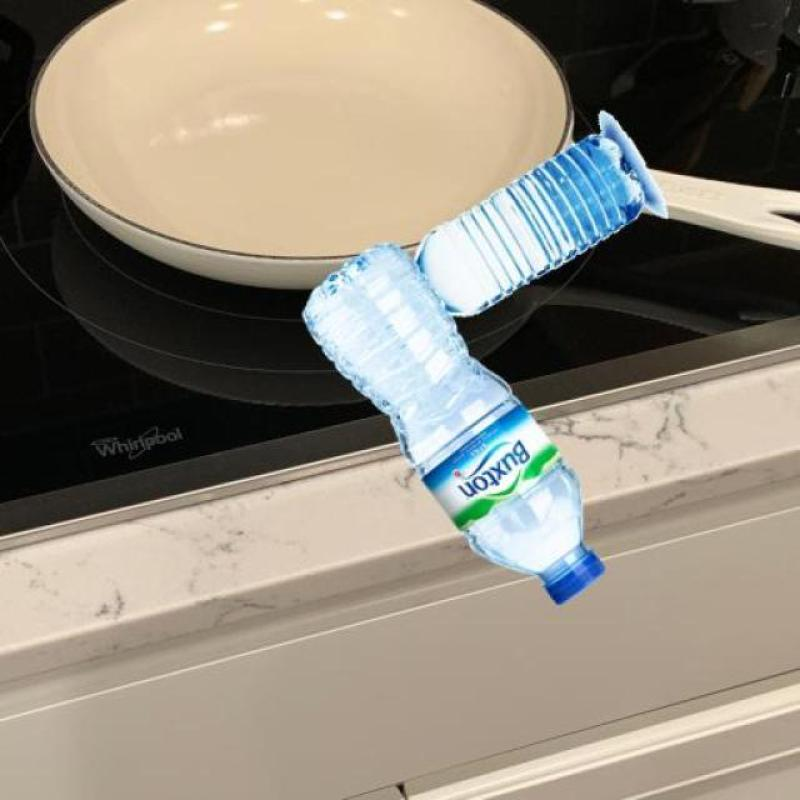botella: (303, 240, 603, 602), (413, 134, 648, 321)
